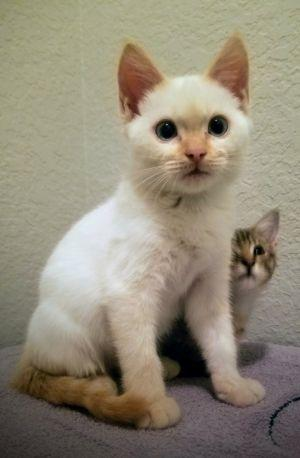siamese: (112, 32, 267, 196)
